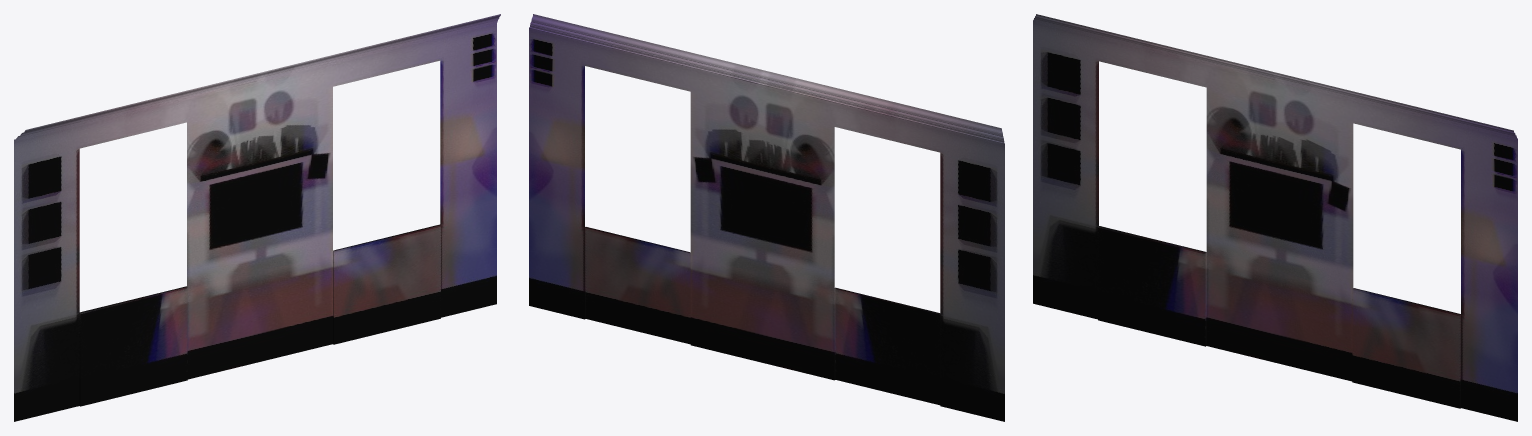
Rendered from wall_right_front.glb.
3 renders of one model, left to right at view 1: azimuth 30°, elevation 25°; view 2: azimuth 150°, elevation 25°; view 3: azimuth 330°, elevation 25°, orthographic.
Visible parts, largest first — view 1: wall_right_front; view 2: wall_right_front; view 3: wall_right_front.
Part boxes in pixels (x1,y1,x2,y2): wall_right_front: (14,14,500,421); wall_right_front: (529,14,1004,421); wall_right_front: (1033,14,1517,421).
Bounding box in the file's own units: 32.4 × 18.8 × 0.48.
Materials: 1 (1 with a texture image).
